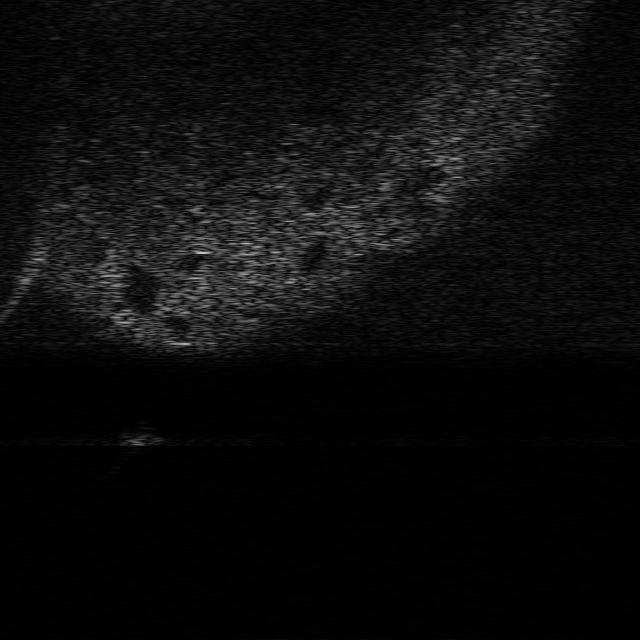cube: (116, 428, 164, 448)
